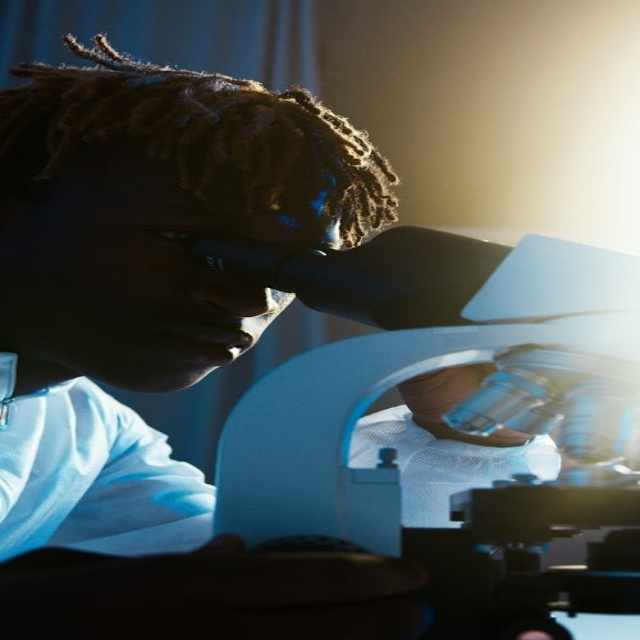Sin_gafas: (77, 210, 219, 251)
Sin_guantes: (1, 541, 441, 640), (391, 359, 546, 448)
Sin_mascara: (93, 320, 274, 377)
